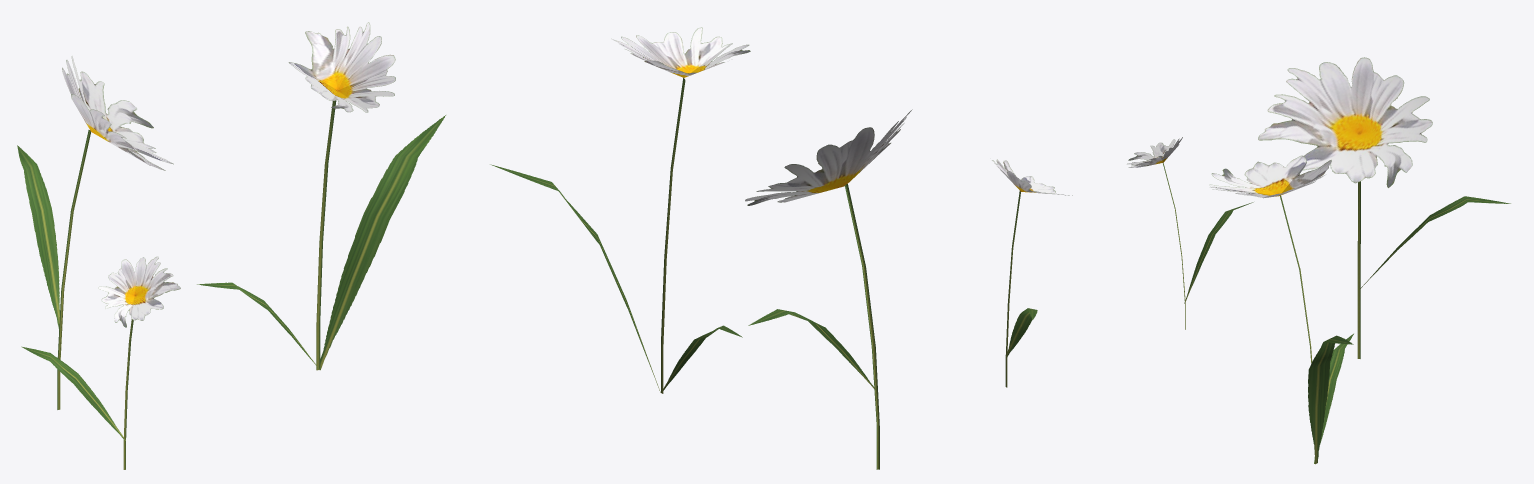
Rendered from LE_Flower03.fbx.
3 renders of one model, left to right at view 1: azimuth 30°, elevation 25°; view 2: azimuth 150°, elevation 25°; view 3: azimuth 270°, elevation 25°, orthographic. The views are drawn at different scales.
Visible parts, largest first — view 1: polySurface26; view 2: polySurface26; view 3: polySurface26.
Part boxes in pixels (x1=…): polySurface26: x1=17, y1=22, x2=445, y2=469; polySurface26: x1=490, y1=27, x2=1072, y2=469; polySurface26: x1=1127, y1=57, x2=1510, y2=464.
Size of the model in its own units: 0.7838 by 0.5687 by 0.6226.
